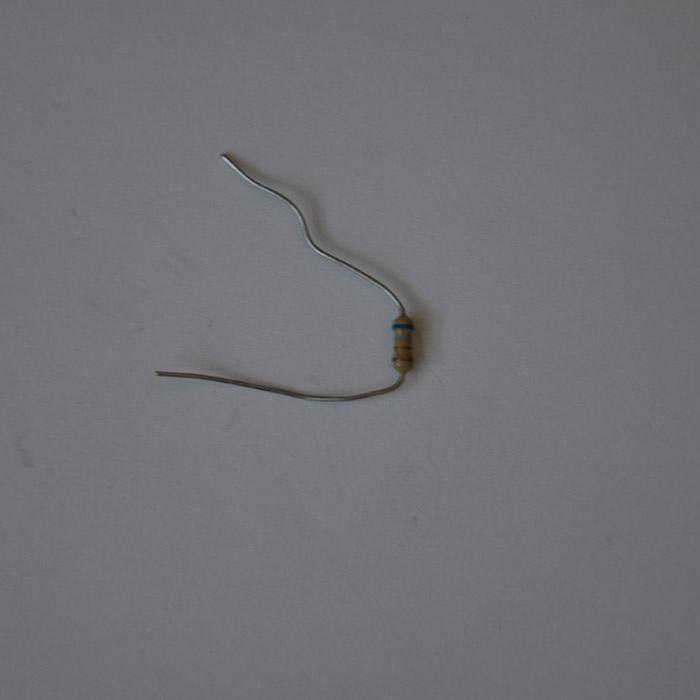resistor: (390, 312, 415, 372)
